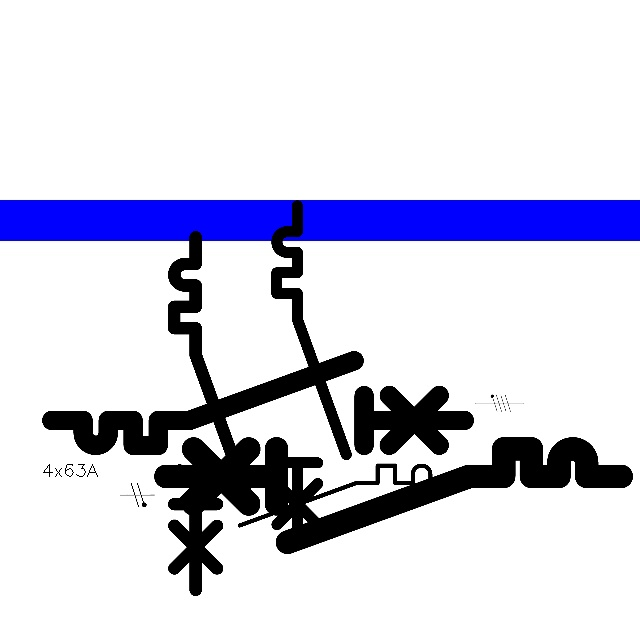interruptor_termomagnetico: (154, 437, 633, 554), (41, 350, 475, 456), (165, 228, 256, 599), (268, 197, 355, 554), (154, 458, 459, 532)
